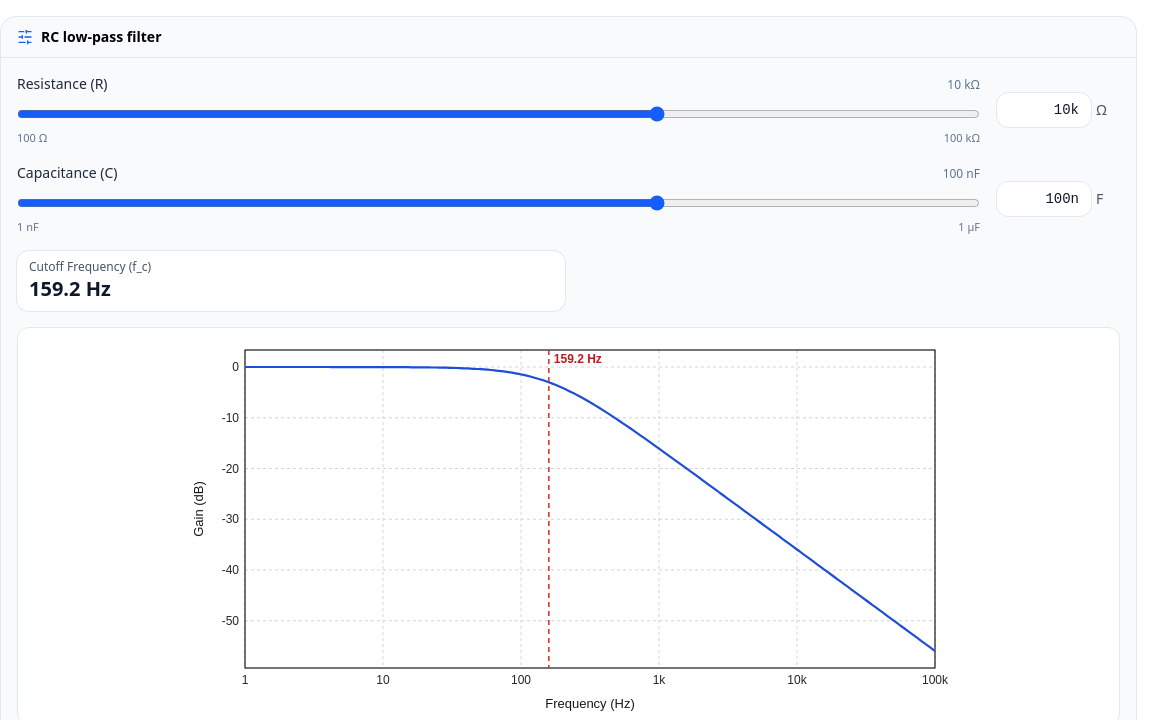
Scenario: InteractiveParameterSlider › commits on Enter and clamps to the allowed range
The image size is (1152, 720).
Replace the text in the field named "Exact value of Resistance (R)" with "1M" at (1044, 110), box [996,92,1092,128]
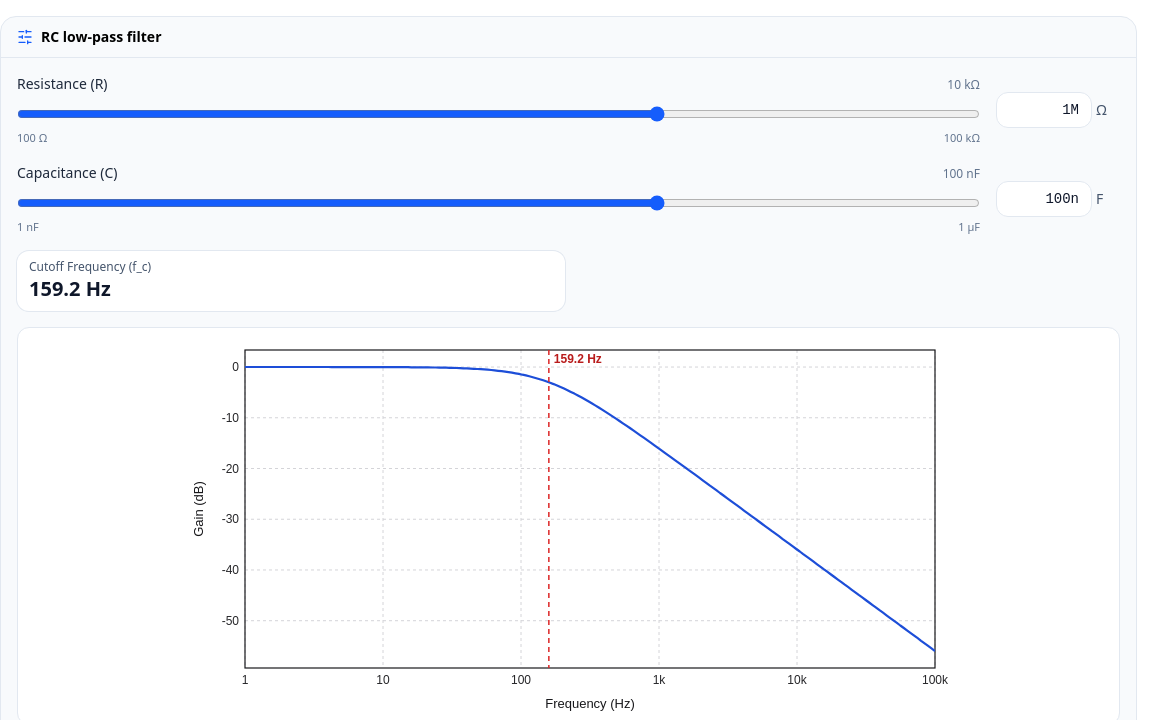
Press Enter in the field named "Exact value of Resistance (R)", box [996,92,1092,128]
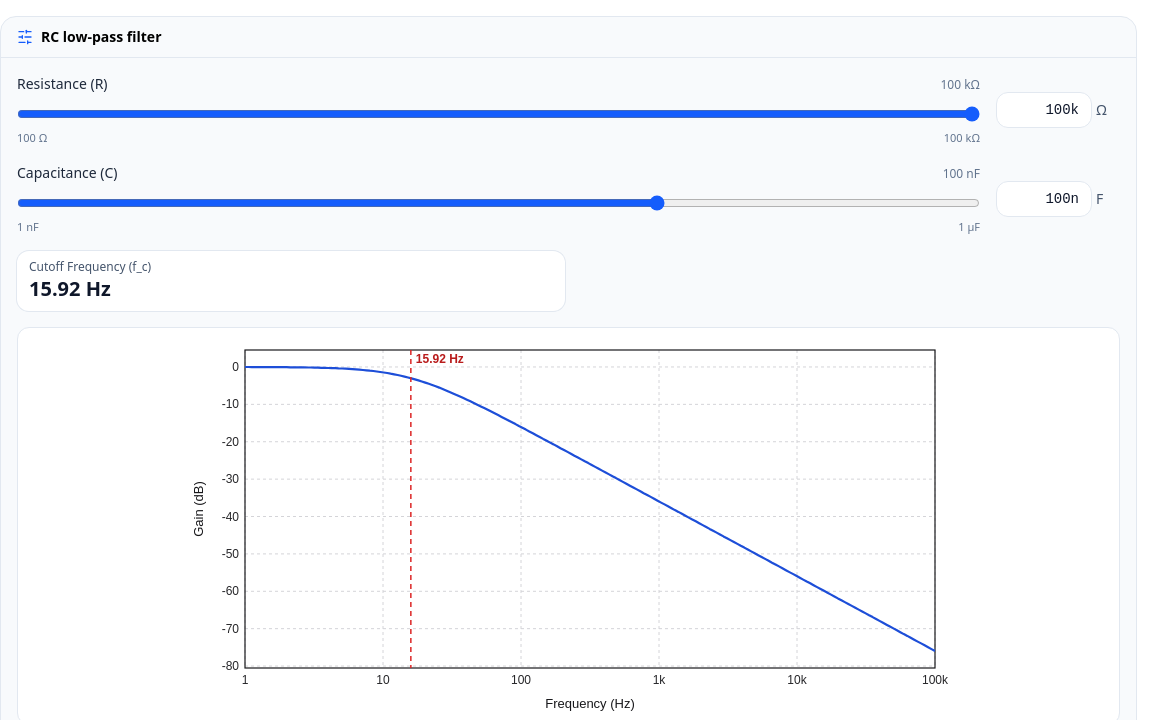
Expected: the field named "Exact value of Resistance (R)" holds "100k"
Replace the text in the field named "Exact value of Resistance (R)" with "1" at (1044, 110), box [996,92,1092,128]
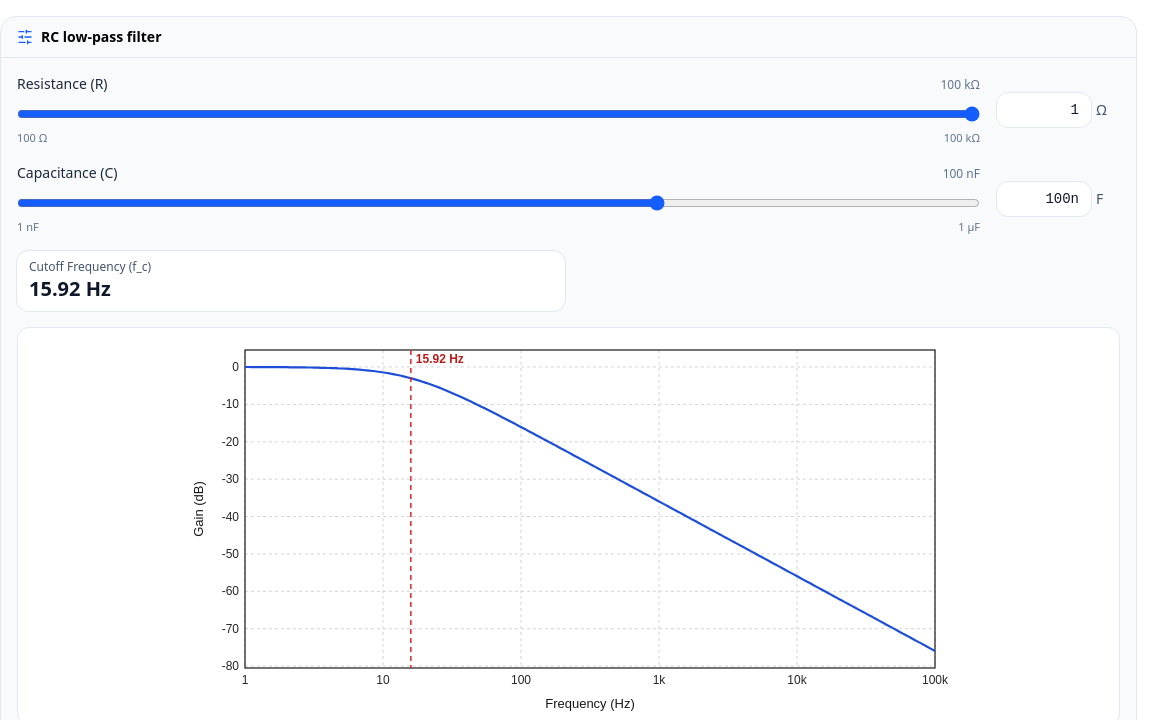
Leave the field named "Exact value of Resistance (R)", box [996,92,1092,128]
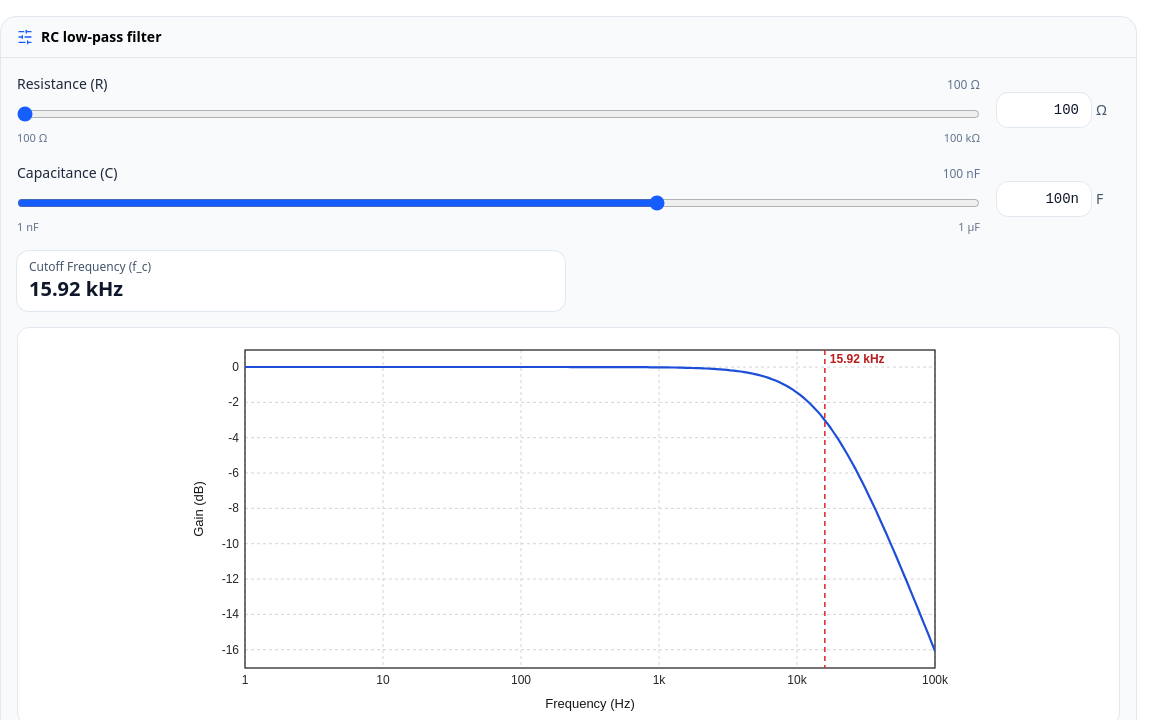
Expected: the field named "Exact value of Resistance (R)" holds "100", [996,92,1092,128]
